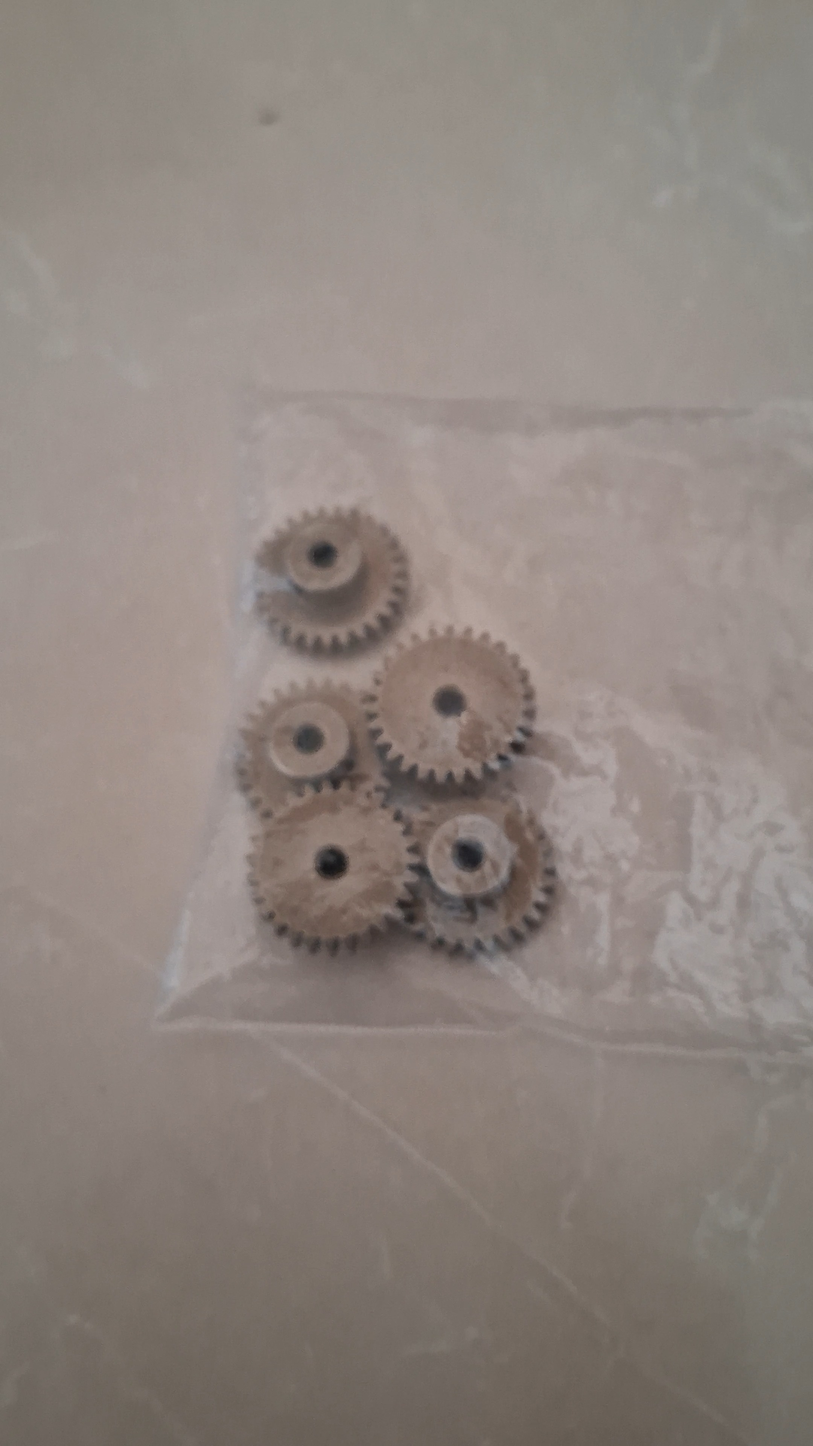spur gear: (249, 782, 416, 950), (367, 628, 534, 784), (410, 797, 555, 953), (256, 509, 408, 652), (236, 682, 382, 813)
